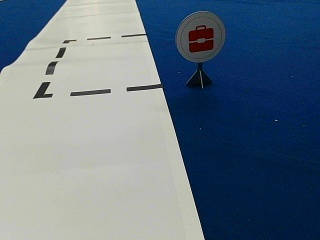company: (176, 11, 226, 61)
